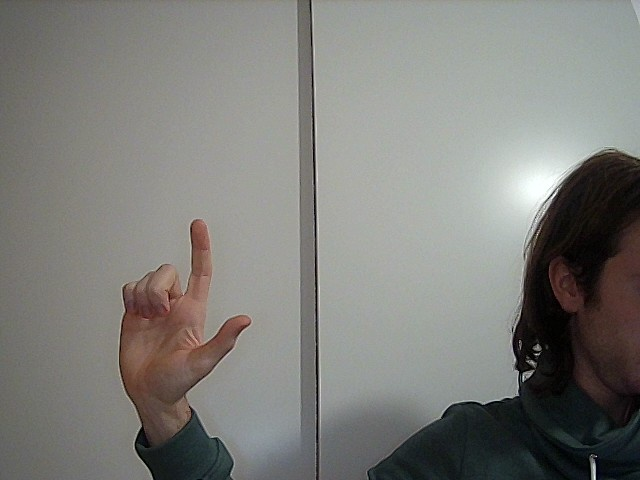l: (89, 217, 252, 399)
